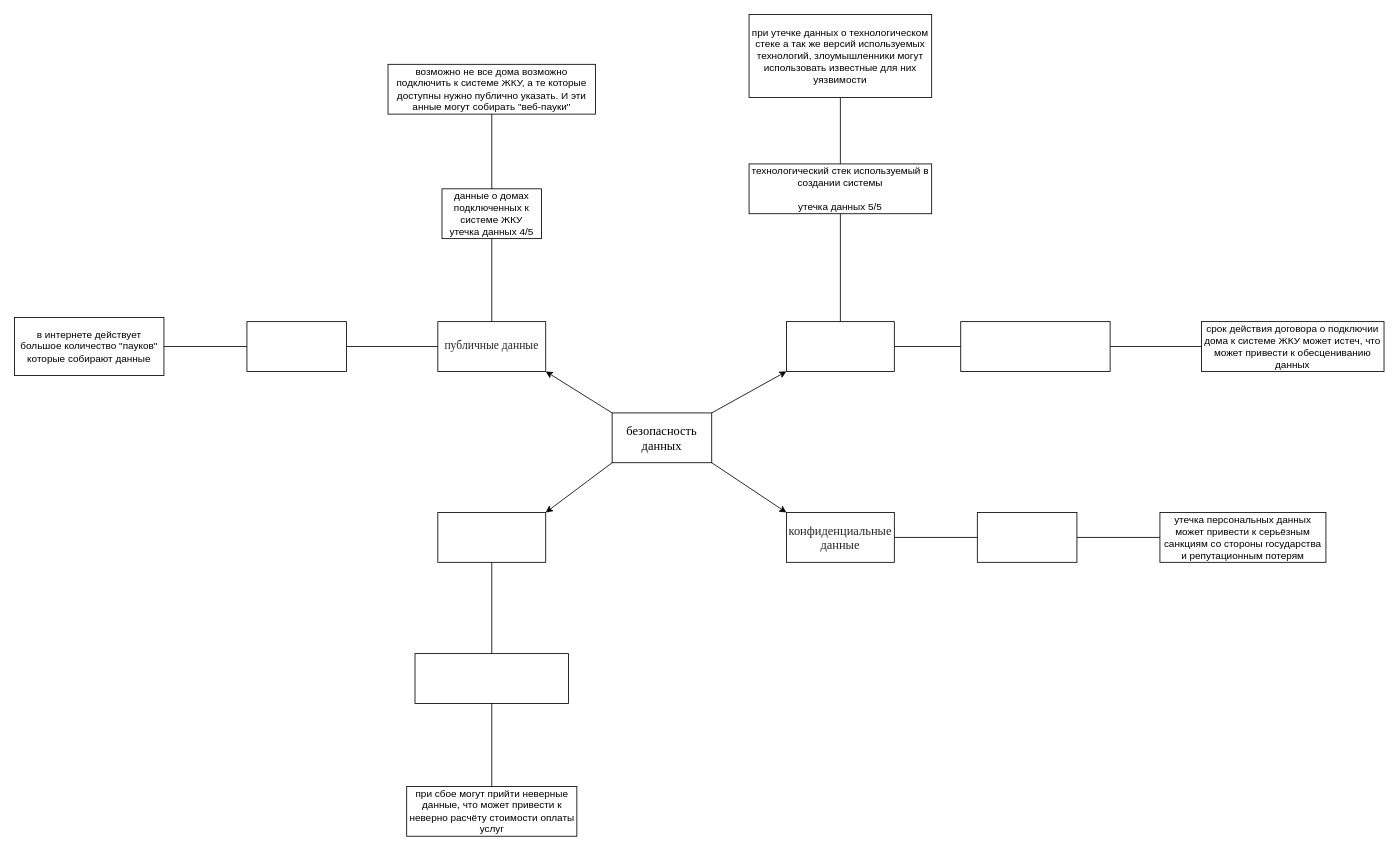
Image size: 1399x851. Some labels were removed from this diagram. The shapes that lost their labels are listed below. From the top down, each one's box as (x1, y1, x2, y2) in pixels, then its label:
(246, 321, 347, 371): данные о лотах на продажу. утечка данных 5/5
(786, 321, 894, 371): секретные данные
(960, 321, 1110, 371): Договора PropDevelopment с управляющими компаниями обесценивание данных 3/5
(437, 512, 546, 562): внутренние данные
(976, 512, 1077, 562): данные о клиентах утечка данных 5/5
(414, 653, 569, 703): данные с счётчиков некачественные данные 4/5
